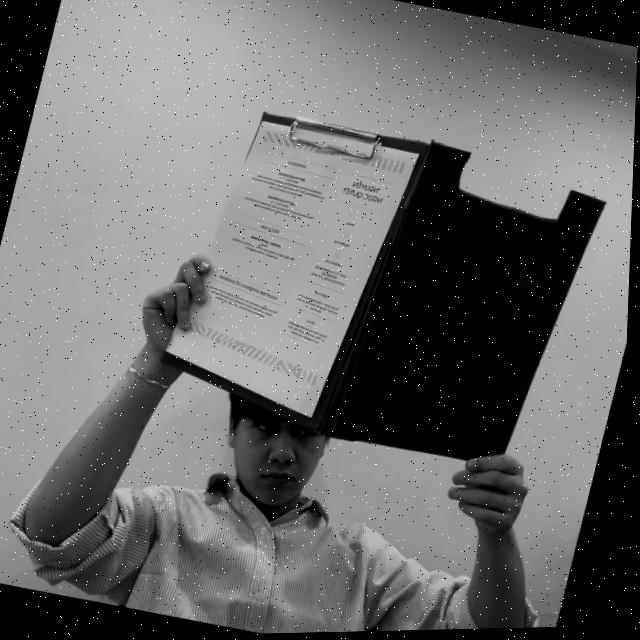document: (162, 121, 418, 416)
face: (198, 404, 329, 519)
